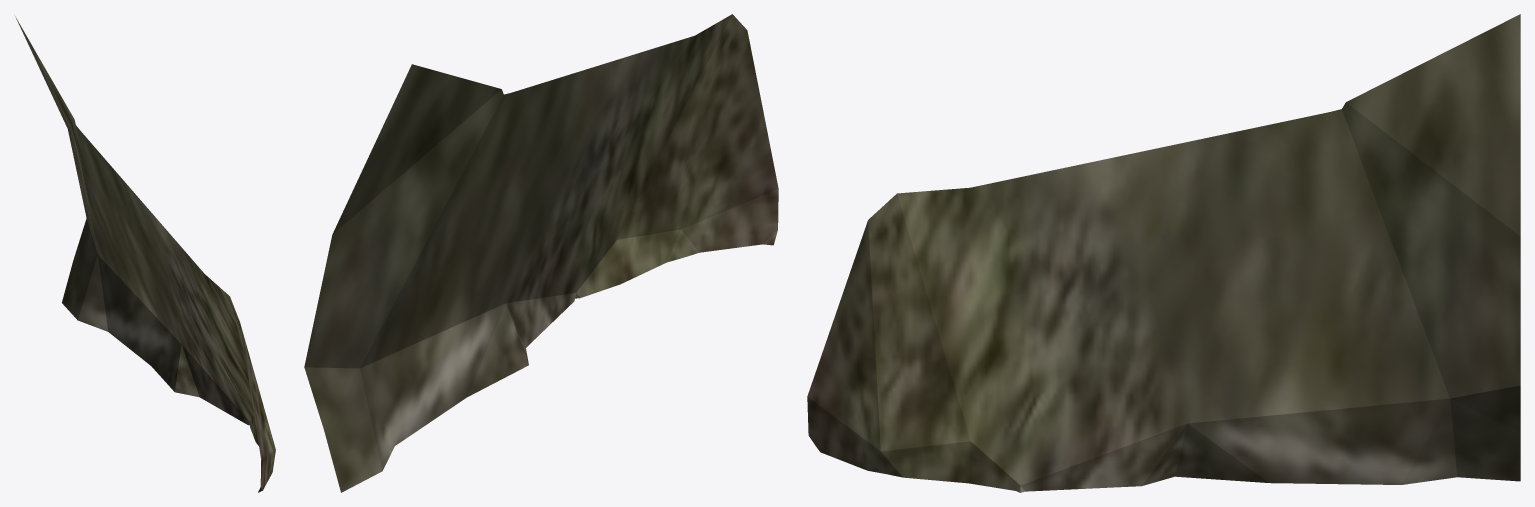
The picture shows the model from 3 angles, left to right: view 1: azimuth 30°, elevation 25°; view 2: azimuth 150°, elevation 25°; view 3: azimuth 270°, elevation 25°; orthographic projection. The views are drawn at different scales.
Size of the model in its own units: 0.34 by 1.35 by 2.01.
1 material, 1 textured.
